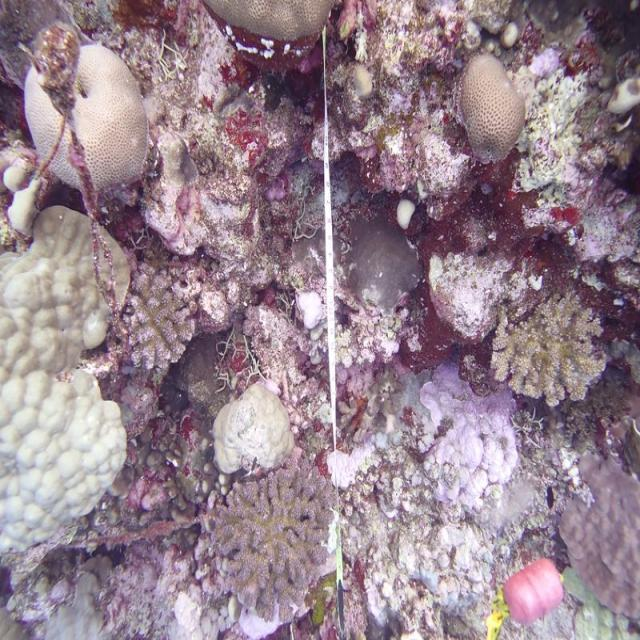Bleached Coral: (0, 205, 140, 555), (419, 353, 529, 528), (107, 264, 215, 372), (205, 370, 308, 482)
Healthy Coral: (454, 51, 530, 169), (200, 0, 340, 54)
